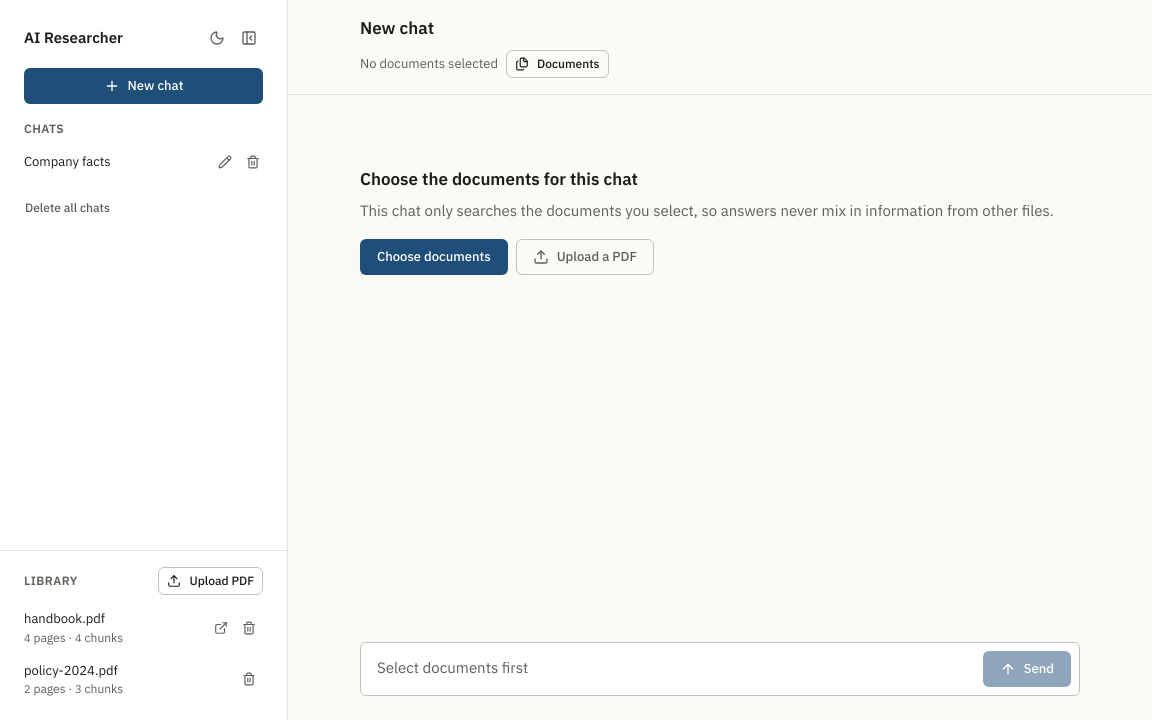
Scenario: ChatView › sends with Enter and shows the answer with its source chips
Click the button "Company facts" at (112, 162), box [16,146,207,178]
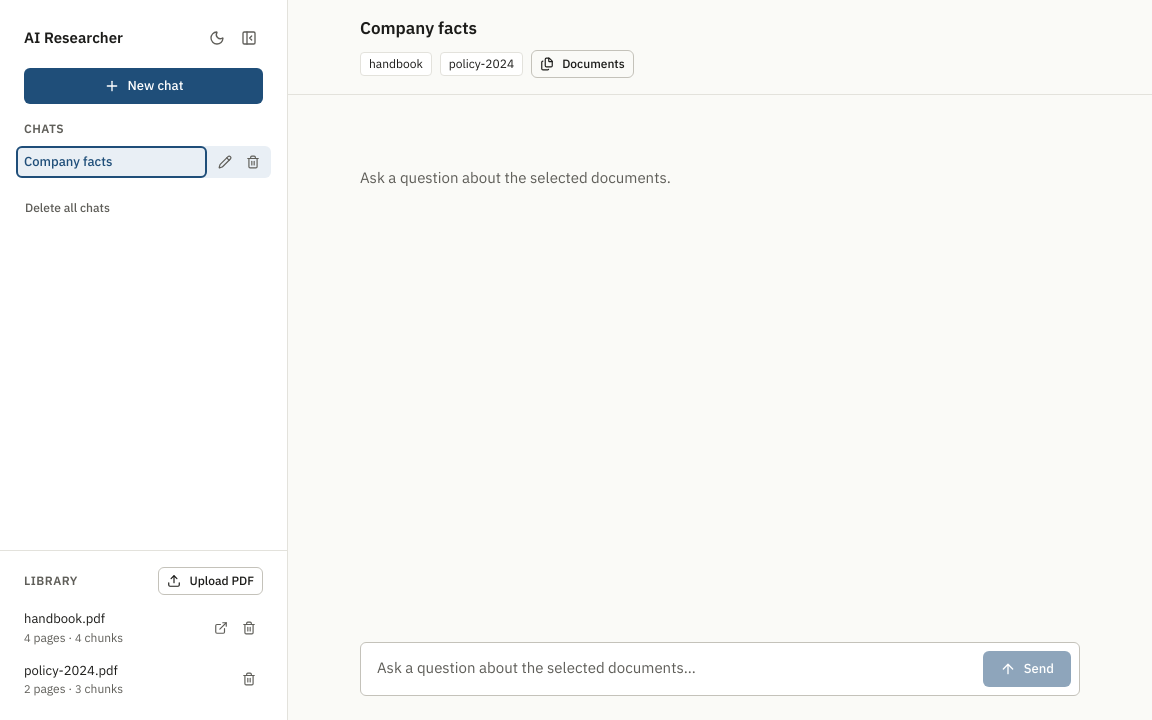
Check: the heading "Company facts" is shown, box [360,16,477,42]
Type "Who founded it?" into the text box labelled "question" at (672, 669), box [369,651,975,687]
Then press Enter
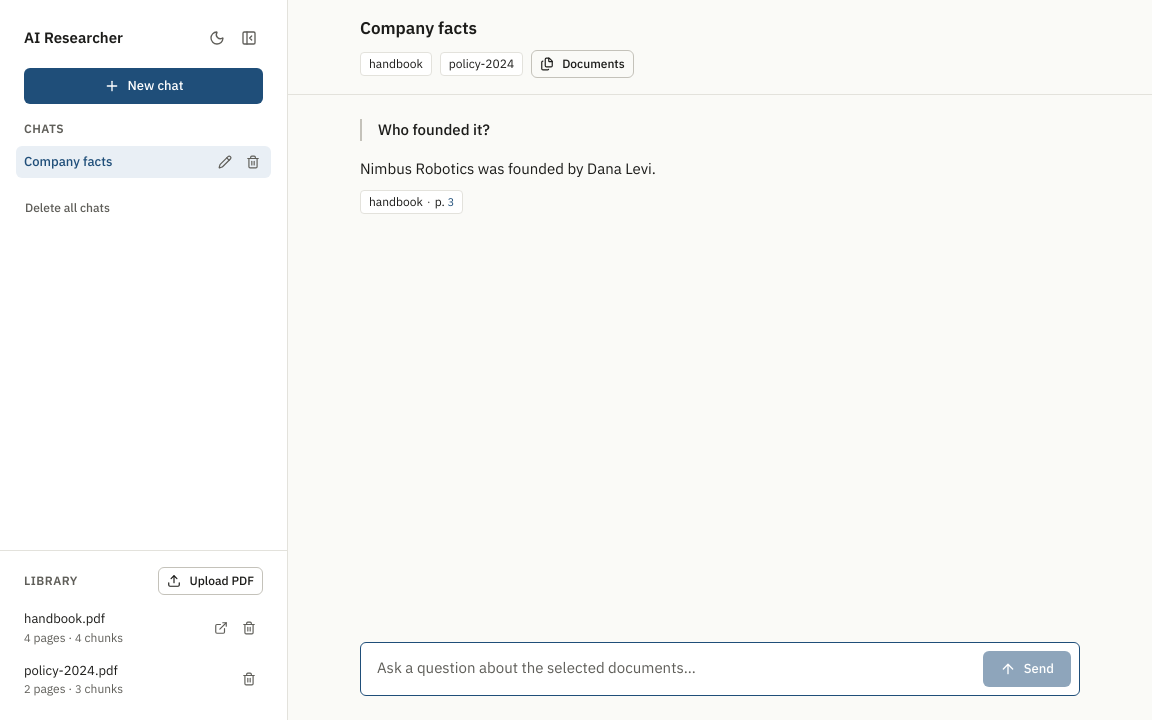
Check: the text "Nimbus Robotics was founded by Dana Levi." is shown, box [360,159,656,178]
Check: the text "Who founded it?" is shown, box [360,118,1080,141]
Check: the link "handbook · p. 3" is shown, box [360,190,463,214]
